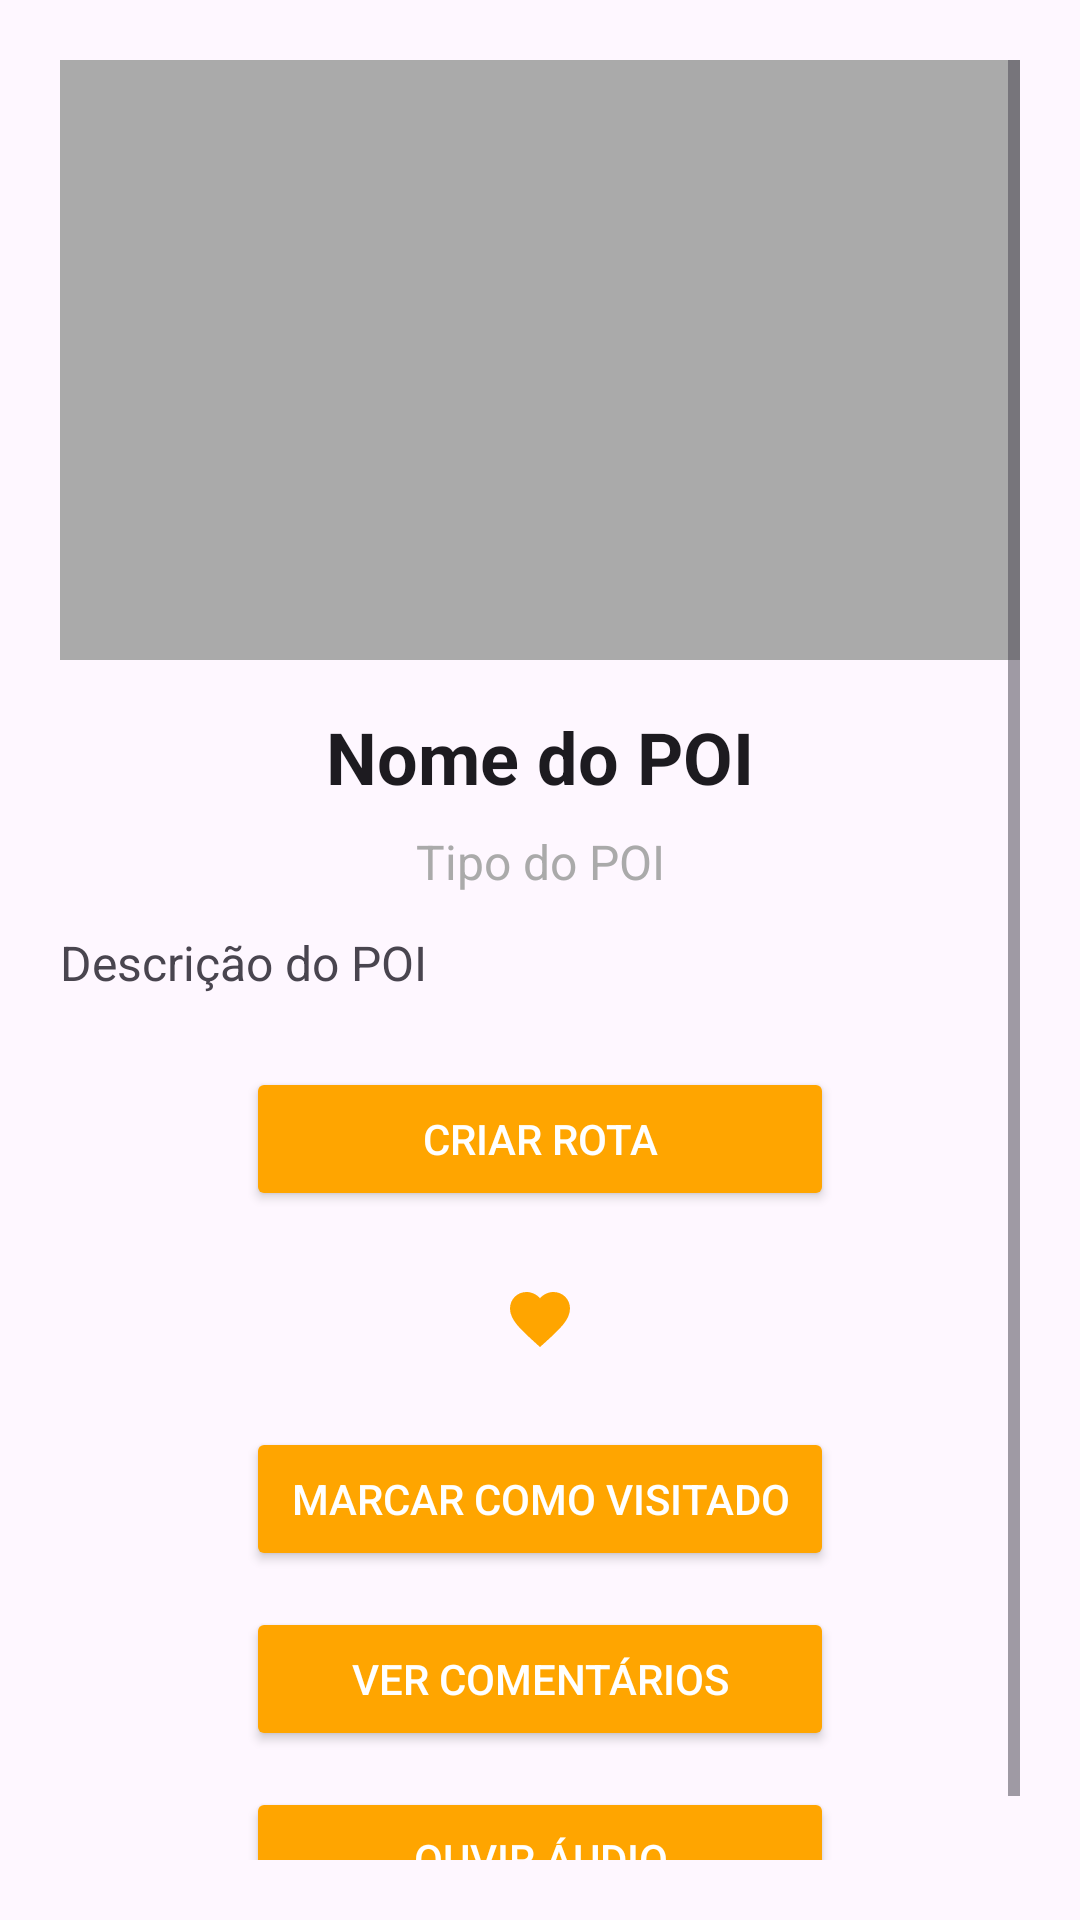

Point at icon controls on the screen. Image size 1080 × 1920, points as [x,y].
Adicionar aos favoritos: [540,1319]
